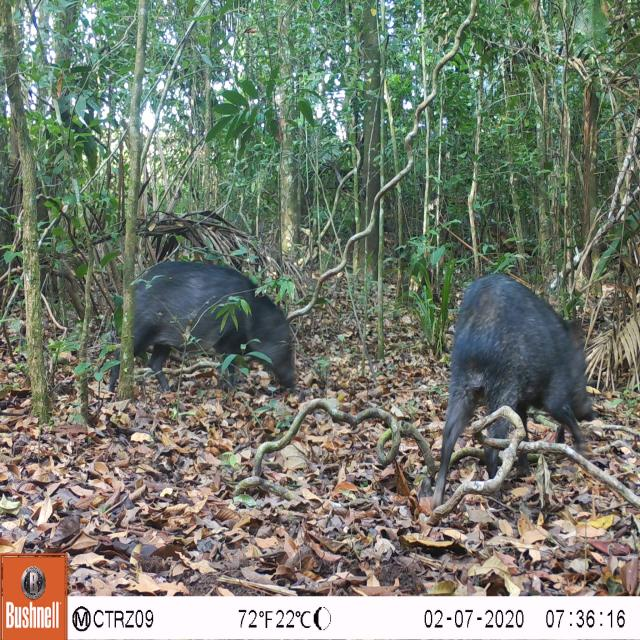Collared Peccary: (428, 265, 600, 504), (108, 249, 299, 417)
